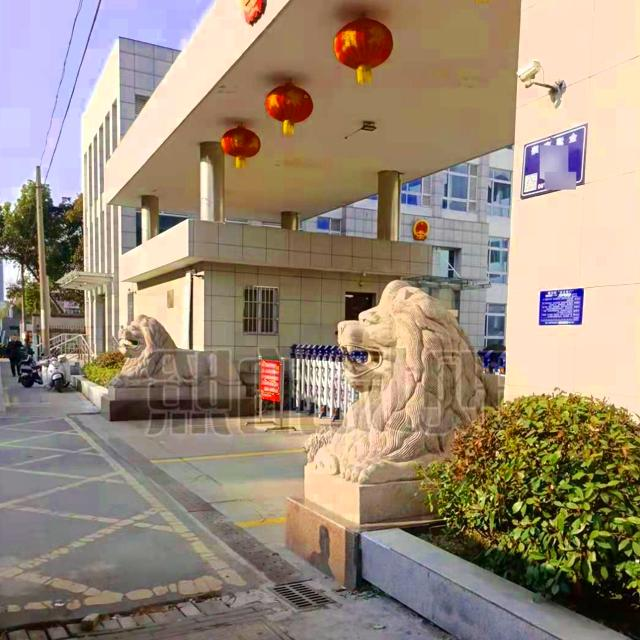good: (93, 609, 376, 640)
